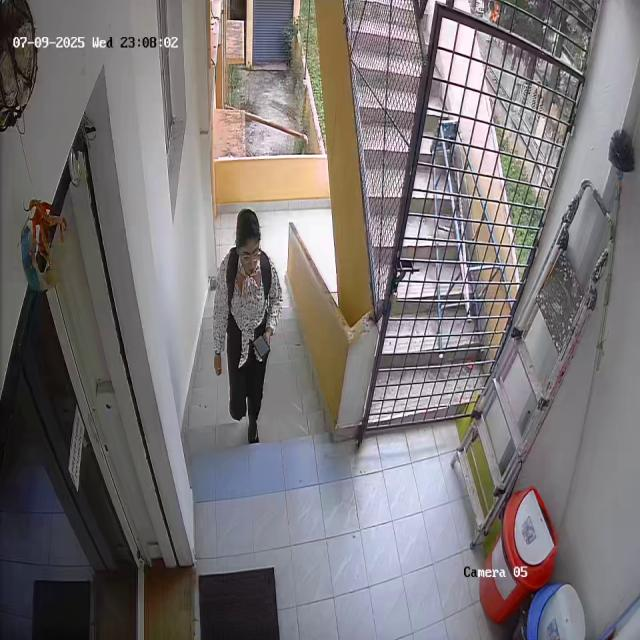person: (204, 207, 283, 441)
